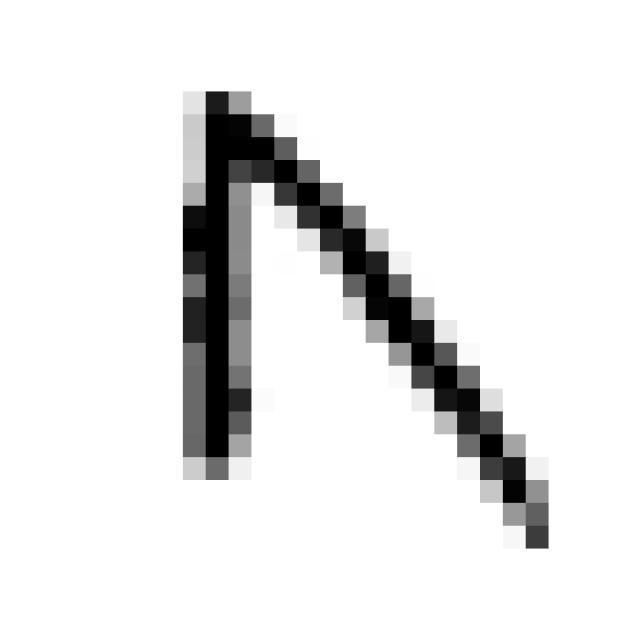8 -eight-: (149, 62, 568, 568)
